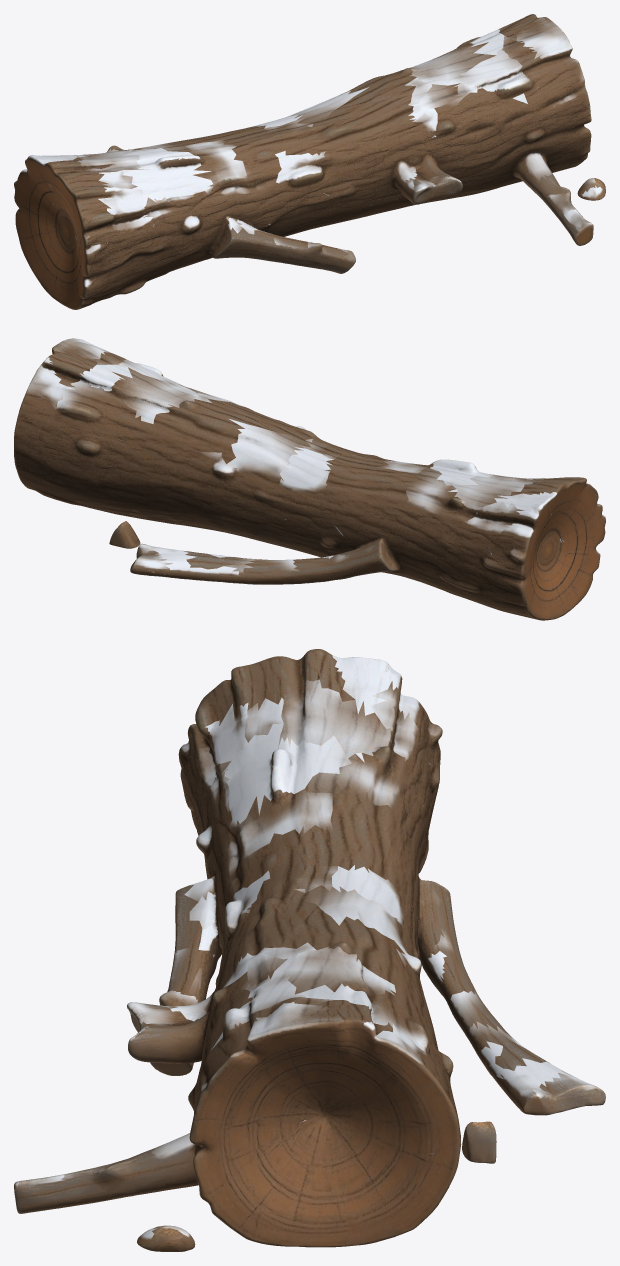
File: woodlog-snow-a.glb
The picture shows the model from 3 angles, top to bottom: view 1: azimuth 30°, elevation 25°; view 2: azimuth 150°, elevation 25°; view 3: azimuth 270°, elevation 25°; orthographic projection. The views are drawn at different scales.
Visible parts, largest first — view 1: Mesh_0; view 2: Mesh_0; view 3: Mesh_0.
Boxes of the visible parts, x1=… form: Mesh_0: x1=14, y1=14, x2=605, y2=309; Mesh_0: x1=14, y1=338, x2=605, y2=620; Mesh_0: x1=14, y1=649, x2=605, y2=1251.
Size of the model in its own units: 1.2 by 0.352 by 0.7239.
1 material, 1 textured.
